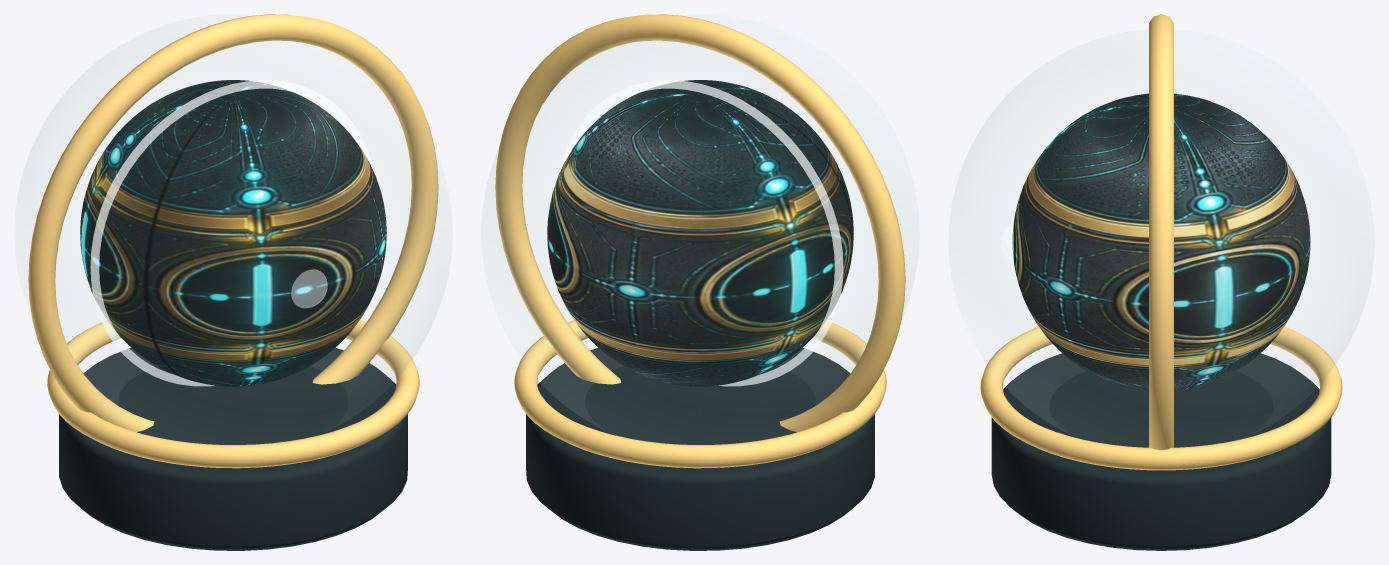
The model's file is hp_pickup_route_output_orb_1.glb.
The picture shows the model from 3 angles, left to right: view 1: azimuth 30°, elevation 25°; view 2: azimuth 150°, elevation 25°; view 3: azimuth 270°, elevation 25°; orthographic projection. The views are drawn at different scales.
Parts seen in each view (by area): view 1: route_orb_1_image2_api_wrap_inner_sphere, route_orb_1_floor_socket, route_orb_1_front_protective_brass_frame, route_orb_1_base_locking_trim, route_orb_1_inner_light_equator, route_orb_1_inner_light_core; view 2: route_orb_1_image2_api_wrap_inner_sphere, route_orb_1_floor_socket, route_orb_1_front_protective_brass_frame, route_orb_1_base_locking_trim, route_orb_1_inner_light_equator; view 3: route_orb_1_image2_api_wrap_inner_sphere, route_orb_1_floor_socket, route_orb_1_base_locking_trim, route_orb_1_front_protective_brass_frame.
Part boxes in pixels (left/top/right/bottom): route_orb_1_image2_api_wrap_inner_sphere: left=80, top=80, right=386, bottom=386; route_orb_1_floor_socket: left=59, top=347, right=407, bottom=550; route_orb_1_front_protective_brass_frame: left=28, top=14, right=438, bottom=432; route_orb_1_base_locking_trim: left=47, top=320, right=419, bottom=468; route_orb_1_inner_light_equator: left=90, top=80, right=373, bottom=386; route_orb_1_inner_light_core: left=291, top=269, right=327, bottom=307; route_orb_1_image2_api_wrap_inner_sphere: left=547, top=80, right=853, bottom=386; route_orb_1_floor_socket: left=526, top=347, right=874, bottom=550; route_orb_1_front_protective_brass_frame: left=495, top=14, right=905, bottom=432; route_orb_1_base_locking_trim: left=514, top=320, right=886, bottom=468; route_orb_1_inner_light_equator: left=560, top=80, right=843, bottom=386; route_orb_1_image2_api_wrap_inner_sphere: left=1012, top=93, right=1310, bottom=390; route_orb_1_floor_socket: left=991, top=353, right=1331, bottom=550; route_orb_1_base_locking_trim: left=980, top=326, right=1342, bottom=470; route_orb_1_front_protective_brass_frame: left=1149, top=14, right=1173, bottom=450.
Bounding box in the file's own units: 0.484 × 0.524 × 0.452.
5 materials, 1 textured.
